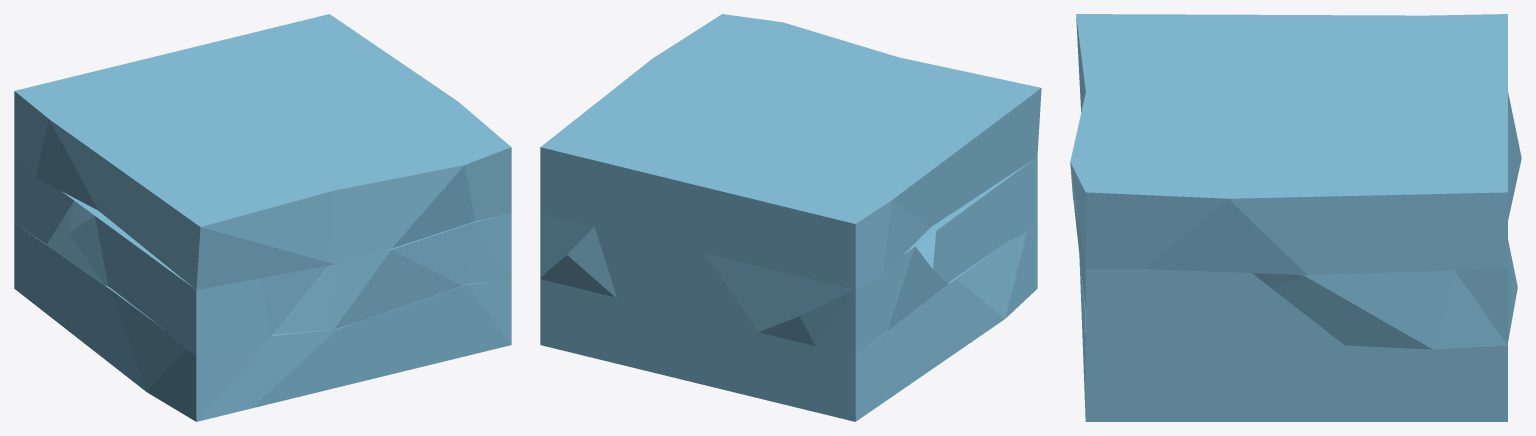
File: sliced.fbx
3 renders of one model, left to right at view 1: azimuth 30°, elevation 25°; view 2: azimuth 150°, elevation 25°; view 3: azimuth 270°, elevation 25°, orthographic. The views are drawn at different scales.
Parts seen in each view (by area): view 1: Cube.002, Cube, Cube.001; view 2: Cube.002, Cube, Cube.001; view 3: Cube.002, Cube.001, Cube.
Part boxes in pixels (x1,y1,x2,y2): Cube.002: (14,14,511,289); Cube: (14,223,511,421); Cube.001: (14,157,511,355); Cube.002: (540,14,1041,289); Cube: (540,223,1037,421); Cube.001: (540,157,1037,355); Cube.002: (1070,14,1507,275); Cube.001: (1073,92,1521,349); Cube: (1079,256,1507,421).
Bounding box in the file's own units: 212 × 120 × 214.
